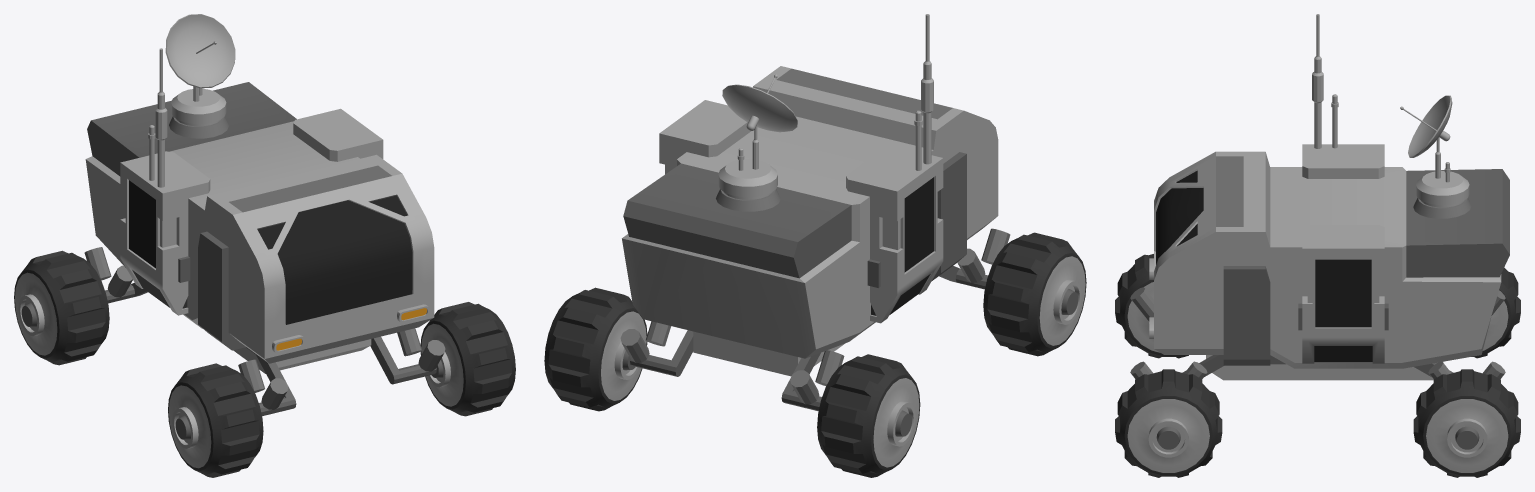
The model's file is Rover_1-transformed.glb.
3 renders of one model, left to right at view 1: azimuth 30°, elevation 25°; view 2: azimuth 150°, elevation 25°; view 3: azimuth 270°, elevation 25°, orthographic. The views are drawn at different scales.
Parts seen in each view (by area): view 1: Wheel_1; view 2: Wheel_1; view 3: Wheel_1.
Boxes of the visible parts, x1,y1,x2,y2 form: Wheel_1: (14, 14, 515, 477); Wheel_1: (544, 14, 1086, 477); Wheel_1: (1115, 14, 1520, 477).
Size of the model in its own units: 4.58 by 4.88 by 5.16.
Materials: 1 (1 with a texture image).
